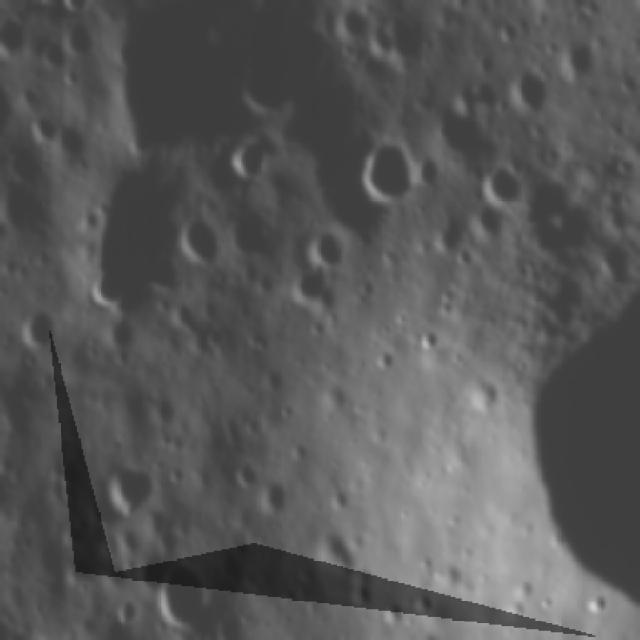crater: (144, 552, 208, 640), (358, 133, 427, 212), (424, 89, 487, 162), (97, 453, 157, 524), (312, 516, 361, 593), (294, 219, 361, 272), (172, 213, 226, 270), (85, 266, 137, 320), (509, 62, 553, 123), (227, 136, 278, 187), (478, 158, 527, 211), (15, 302, 59, 356), (333, 0, 381, 40), (558, 35, 600, 79), (17, 0, 94, 23), (60, 19, 97, 63), (257, 466, 286, 512), (114, 592, 149, 630), (0, 12, 25, 56), (54, 0, 101, 22), (36, 36, 66, 70), (15, 621, 58, 640), (358, 0, 424, 6)
